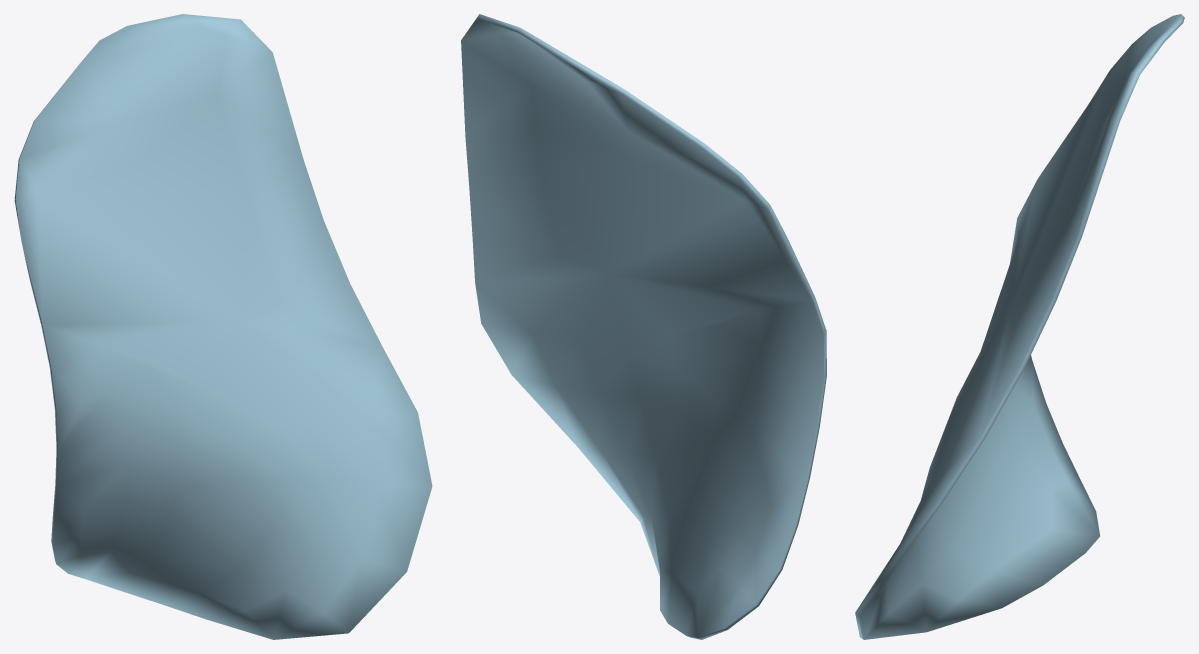
The model's file is articulacoes-anterior-sacro-iliac-ligament-l.glb.
3 renders of one model, left to right at view 1: azimuth 30°, elevation 25°; view 2: azimuth 150°, elevation 25°; view 3: azimuth 270°, elevation 25°, orthographic. The views are drawn at different scales.
Parts seen in each view (by area): view 1: Anterior sacro-iliac ligament.l; view 2: Anterior sacro-iliac ligament.l; view 3: Anterior sacro-iliac ligament.l.
Part boxes in pixels (x1,y1,x2,y2): Anterior sacro-iliac ligament.l: (14,14,432,639); Anterior sacro-iliac ligament.l: (461,14,826,639); Anterior sacro-iliac ligament.l: (855,14,1184,639).
Bounding box in the file's own units: 0.0402 × 0.0633 × 0.0315.
